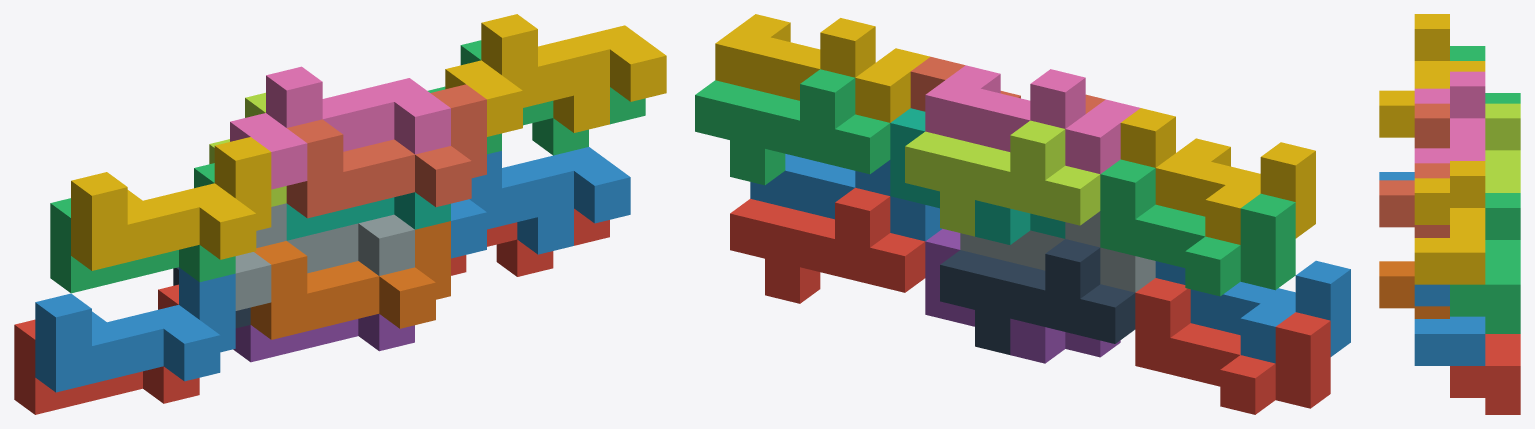
File: tiling.obj
3 renders of one model, left to right at view 1: azimuth 30°, elevation 25°; view 2: azimuth 150°, elevation 25°; view 3: azimuth 270°, elevation 25°, orthographic. The views are drawn at different scales.
Parts seen in each view (by area): view 1: copy_1_domain_4, copy_2_domain_8, copy_1_domain_2, copy_1_domain_8, copy_1_domain_6, copy_2_domain_4, copy_2_domain_6, copy_2_domain_2, copy_1_domain_1, copy_1_domain_3, copy_1_domain_5, copy_2_domain_7 (+3 smaller); view 2: copy_1_domain_3, copy_1_domain_1, copy_2_domain_7, copy_2_domain_5, copy_2_domain_1, copy_2_domain_3, copy_1_domain_4, copy_2_domain_4, copy_2_domain_8, copy_1_domain_2, copy_2_domain_6, copy_1_domain_5 (+3 smaller); view 3: copy_2_domain_8, copy_2_domain_7, copy_1_domain_4, copy_1_domain_8, copy_2_domain_4, copy_2_domain_6, copy_2_domain_5, copy_2_domain_3, copy_1_domain_6, copy_1_domain_3, copy_1_domain_2.
Part boxes in pixels (bbox=[...]): copy_1_domain_4: bbox=[71, 137, 271, 270]; copy_2_domain_8: bbox=[445, 14, 666, 136]; copy_1_domain_2: bbox=[35, 267, 235, 392]; copy_1_domain_8: bbox=[286, 84, 486, 218]; copy_1_domain_6: bbox=[250, 221, 450, 339]; copy_2_domain_4: bbox=[230, 66, 450, 189]; copy_2_domain_6: bbox=[451, 147, 630, 258]; copy_2_domain_2: bbox=[235, 203, 414, 310]; copy_1_domain_1: bbox=[14, 284, 199, 414]; copy_1_domain_3: bbox=[50, 163, 235, 293]; copy_1_domain_5: bbox=[233, 314, 414, 362]; copy_2_domain_7: bbox=[428, 40, 645, 155]; copy_1_domain_3: bbox=[1100, 159, 1295, 296]; copy_1_domain_1: bbox=[1135, 278, 1330, 414]; copy_2_domain_7: bbox=[695, 69, 890, 185]; copy_2_domain_5: bbox=[730, 187, 925, 303]; copy_2_domain_1: bbox=[940, 239, 1135, 354]; copy_2_domain_3: bbox=[905, 120, 1100, 236]; copy_1_domain_4: bbox=[1120, 108, 1315, 244]; copy_2_domain_4: bbox=[925, 65, 1140, 174]; copy_2_domain_8: bbox=[715, 14, 930, 122]; copy_1_domain_2: bbox=[1155, 260, 1350, 363]; copy_2_domain_6: bbox=[750, 154, 942, 241]; copy_1_domain_5: bbox=[925, 229, 1120, 363]; copy_2_domain_8: bbox=[1414, 161, 1485, 284]; copy_2_domain_7: bbox=[1450, 193, 1520, 333]; copy_1_domain_4: bbox=[1379, 14, 1485, 137]; copy_1_domain_8: bbox=[1379, 103, 1449, 237]; copy_2_domain_4: bbox=[1414, 71, 1485, 163]; copy_2_domain_6: bbox=[1414, 284, 1485, 365]; copy_2_domain_5: bbox=[1450, 334, 1520, 414]; copy_2_domain_3: bbox=[1485, 103, 1520, 192]; copy_1_domain_6: bbox=[1379, 261, 1449, 318]; copy_1_domain_3: bbox=[1450, 46, 1520, 103]; copy_1_domain_2: bbox=[1379, 172, 1414, 180].
Size of the model in its own units: 17 by 7 by 4.
